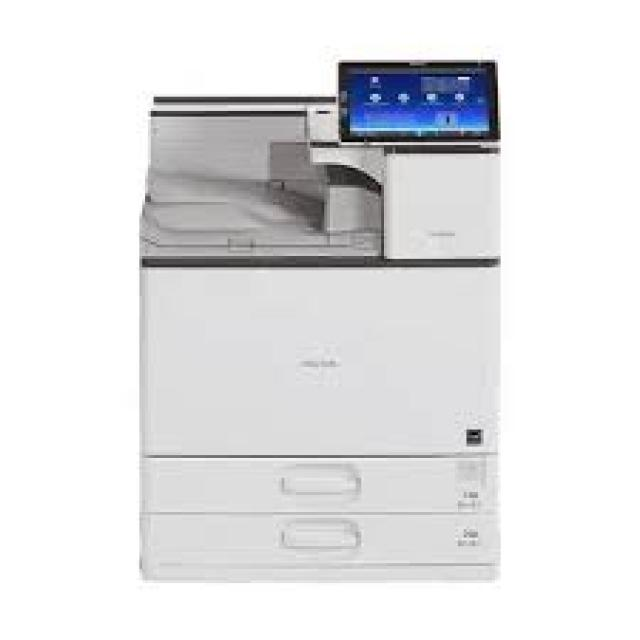printer: (137, 80, 500, 583)
